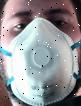with_mask: (2, 1, 81, 106)
